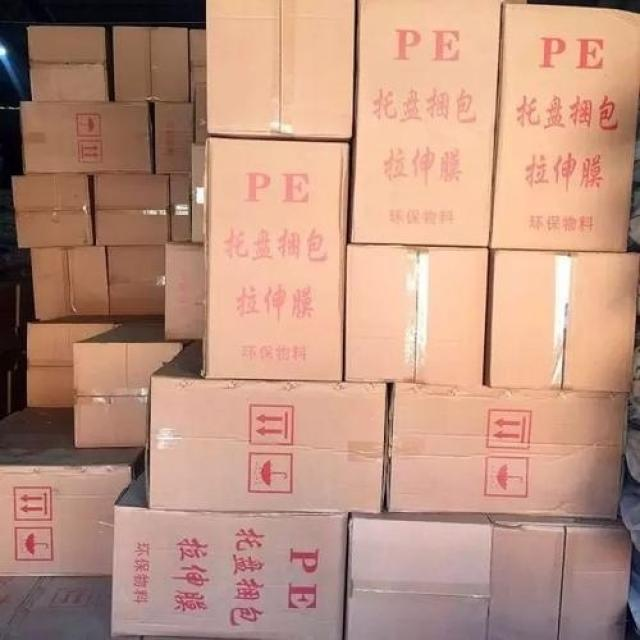box: (108, 463, 352, 636), (146, 340, 391, 510), (349, 3, 503, 245), (491, 3, 639, 253), (204, 138, 351, 383), (383, 383, 630, 518), (0, 403, 148, 575), (485, 231, 639, 392), (204, 1, 358, 142), (344, 242, 492, 386), (344, 512, 491, 638), (490, 513, 632, 639), (73, 315, 191, 448), (24, 102, 154, 173), (26, 319, 120, 405), (2, 572, 108, 638), (28, 244, 115, 322), (12, 173, 98, 244), (27, 27, 109, 101), (111, 25, 191, 100), (93, 173, 169, 242), (106, 244, 167, 319), (163, 244, 207, 342), (150, 98, 194, 172), (187, 25, 208, 142), (169, 173, 194, 241), (193, 141, 207, 245), (2, 327, 30, 373), (0, 281, 20, 325), (10, 369, 30, 413), (17, 276, 33, 324), (2, 371, 12, 423)
